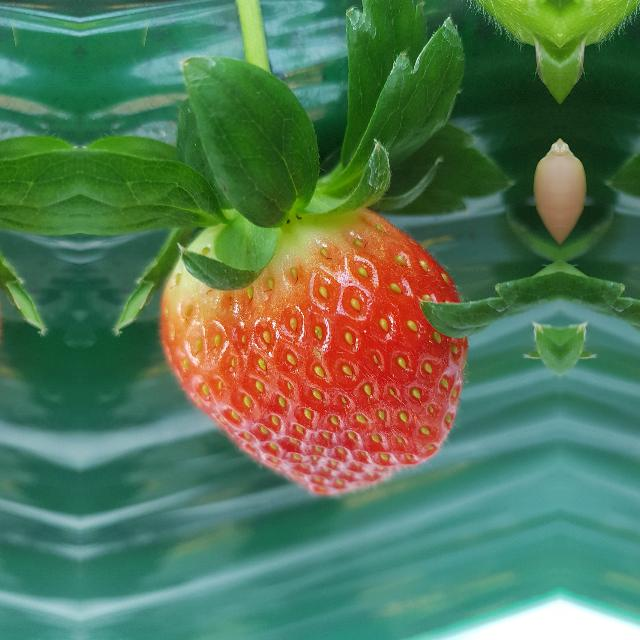Health_100: (158, 206, 466, 498)
